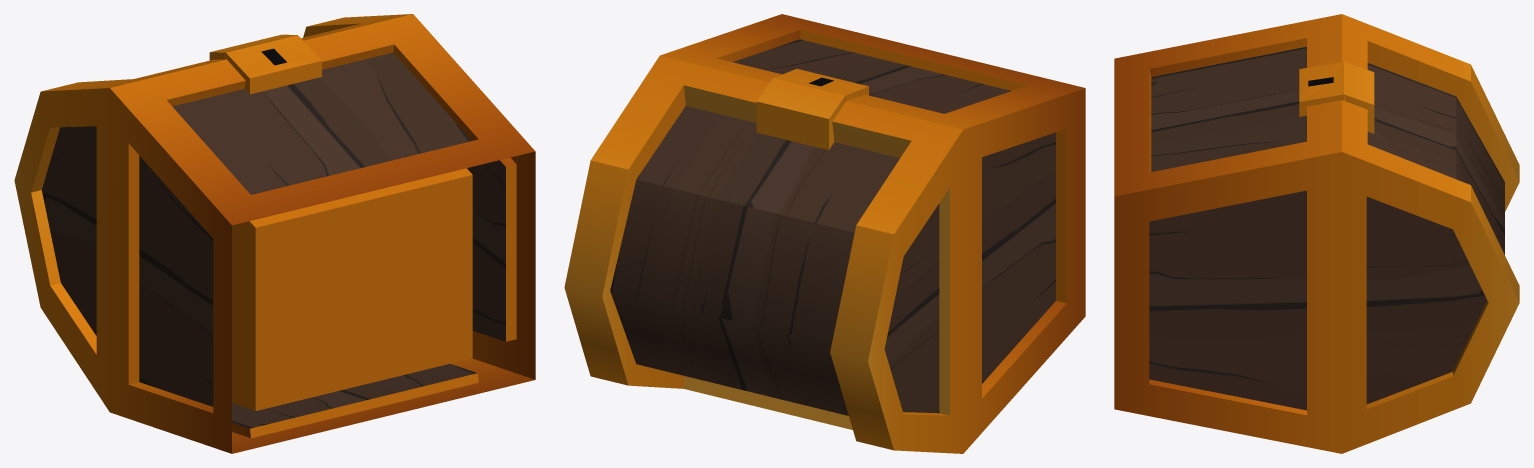
File: Chest 06.FBX
3 renders of one model, left to right at view 1: azimuth 30°, elevation 25°; view 2: azimuth 150°, elevation 25°; view 3: azimuth 270°, elevation 25°, orthographic. The views are drawn at different scales.
Visible parts, largest first — view 1: Chest 06, Chest 06 Cover; view 2: Chest 06 Cover, Chest 06; view 3: Chest 06, Chest 06 Cover.
Part boxes in pixels (x1,y1,x2,y2): Chest 06: [110, 14, 535, 453]; Chest 06 Cover: [14, 14, 412, 411]; Chest 06 Cover: [564, 55, 963, 453]; Chest 06: [660, 14, 1085, 453]; Chest 06: [1114, 14, 1343, 453]; Chest 06 Cover: [1342, 14, 1519, 453].
Bounding box in the file's own units: 78.26 × 81.41 × 97.2.
